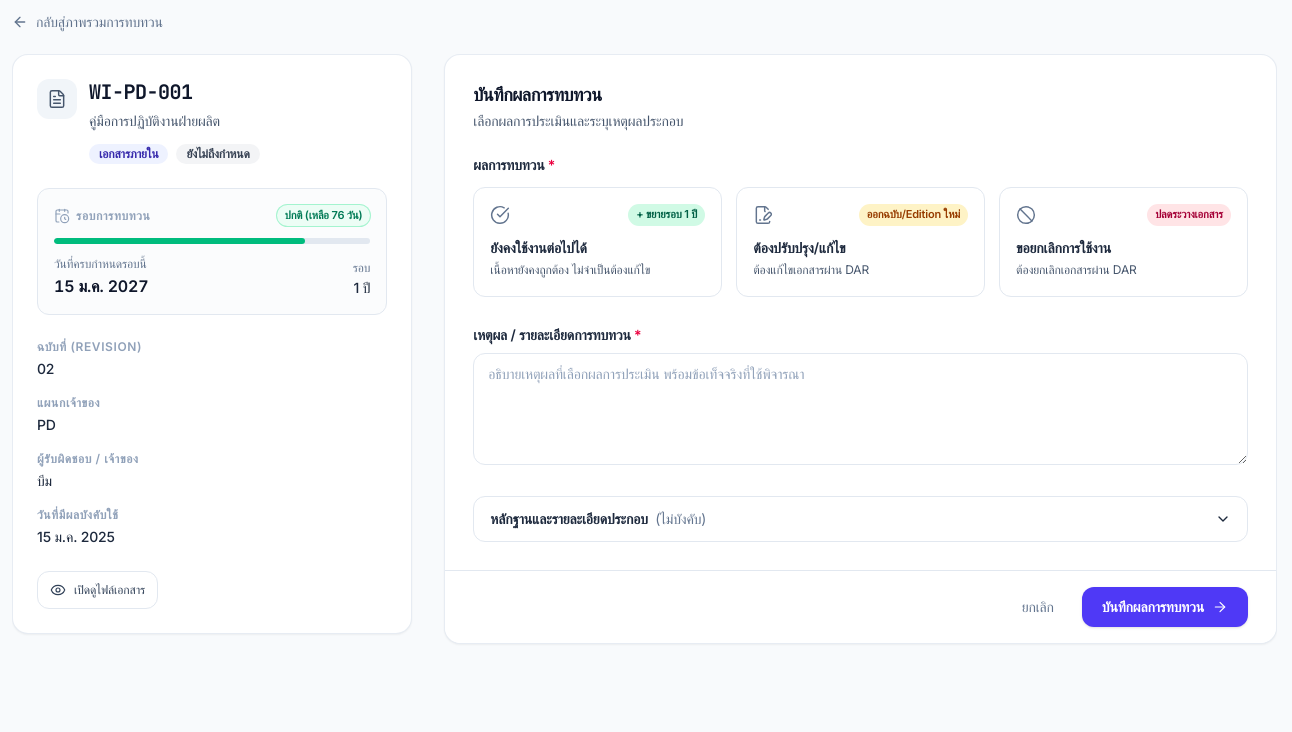
Test: PeriodicReviewDetail - Two-Column Layout & Compact UI › reveals grouped optional details and action buttons
Expected: the text "เหตุผล / รายละเอียดการทบทวน *" is shown, [473,326,641,343]
Expected: the text box with placeholder "อธิบายเหตุผลที่เลือกผลการประเมิน" is shown, [473,353,1248,465]
Click the button "หลักฐานและรายละเอียดประกอบ (ไม่บังคับ)". click: (571, 519)
box: [474,497,1247,541]
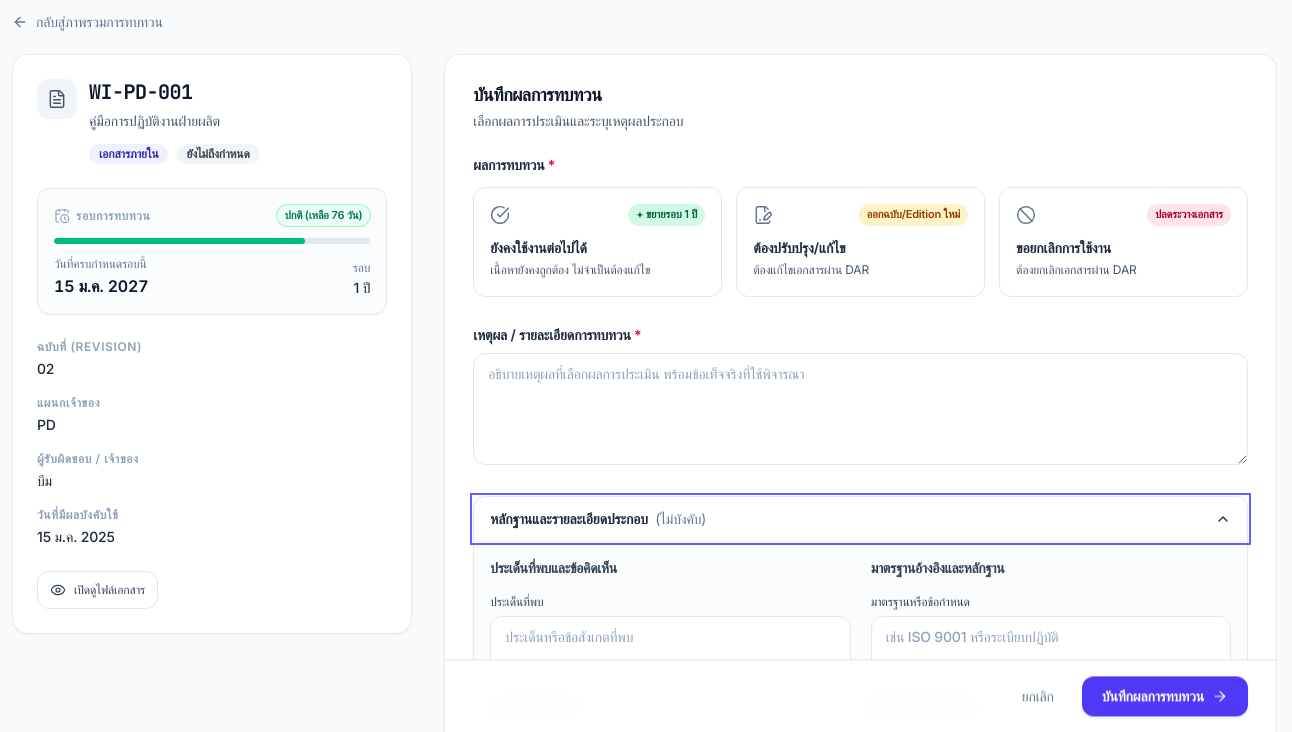
Expected: the button "ยกเลิก" is shown, [1006,676,1070,716]
Expected: the text "ประเด็นที่พบ" is shown, [490,594,851,682]
Expected: the text "มาตรฐานหรือข้อกำหนด" is shown, [871,594,1231,682]
